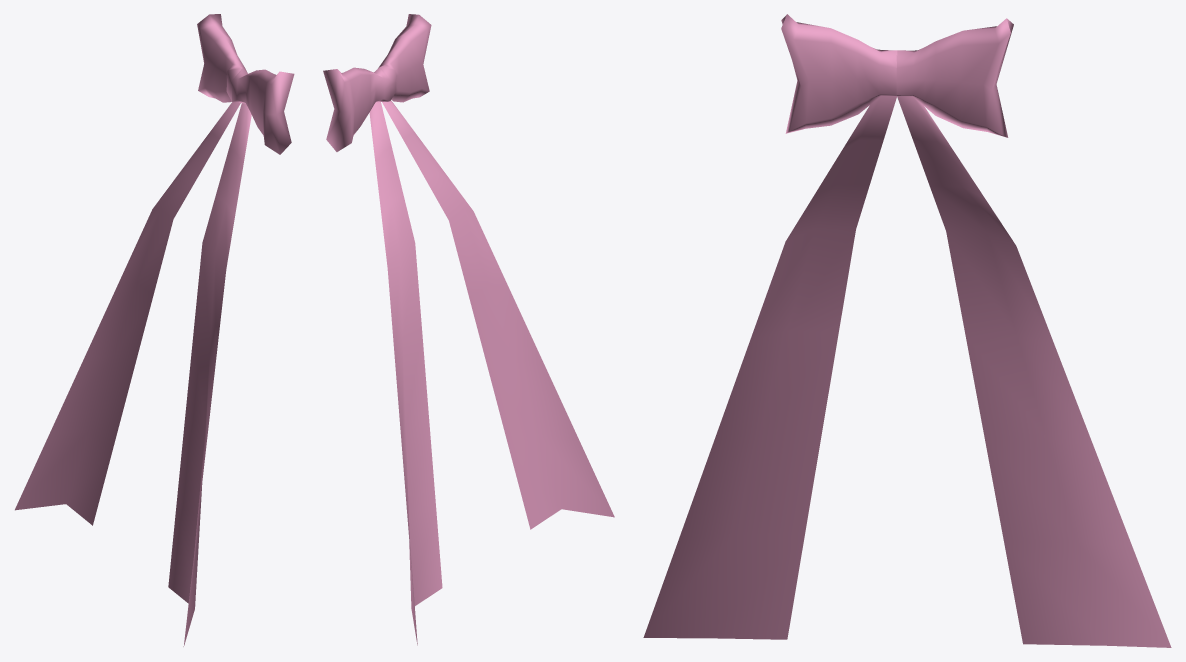
Rendered from ribbon.fbx.
3 renders of one model, left to right at view 1: azimuth 30°, elevation 25°; view 2: azimuth 150°, elevation 25°; view 3: azimuth 270°, elevation 25°, orthographic. The views are drawn at different scales.
Visible parts, largest first — view 1: bow.001; view 2: bow.001; view 3: bow.001.
Part boxes in pixels (x1,y1,x2,y2): bow.001: (15,14,294,646); bow.001: (323,14,614,645); bow.001: (643,14,1171,647).
Bounding box in the file's own units: 1070 × 3127 × 2060.
